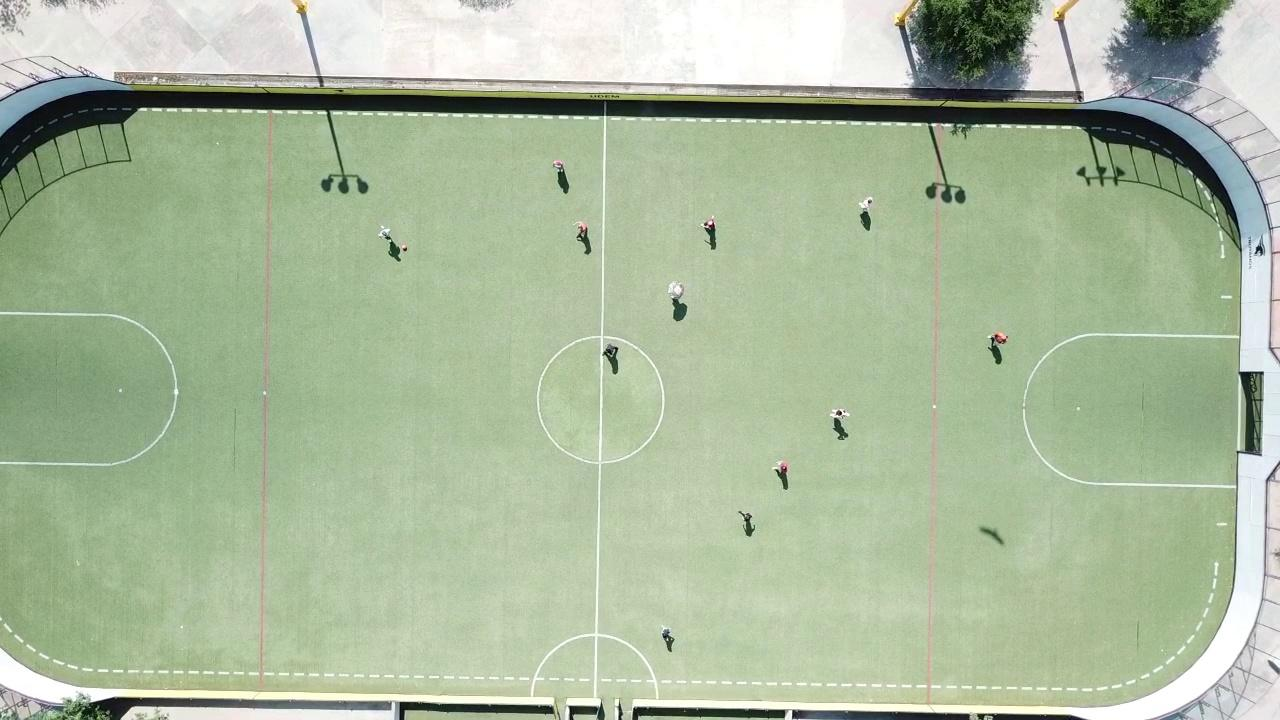ball: (400, 243, 408, 251)
player: (858, 194, 876, 215), (668, 281, 685, 302), (989, 330, 1009, 345), (573, 220, 587, 241), (830, 408, 850, 422), (702, 215, 716, 234), (603, 344, 619, 359), (774, 461, 788, 477), (378, 225, 391, 241), (661, 626, 673, 643), (738, 511, 752, 525), (552, 159, 564, 171)
